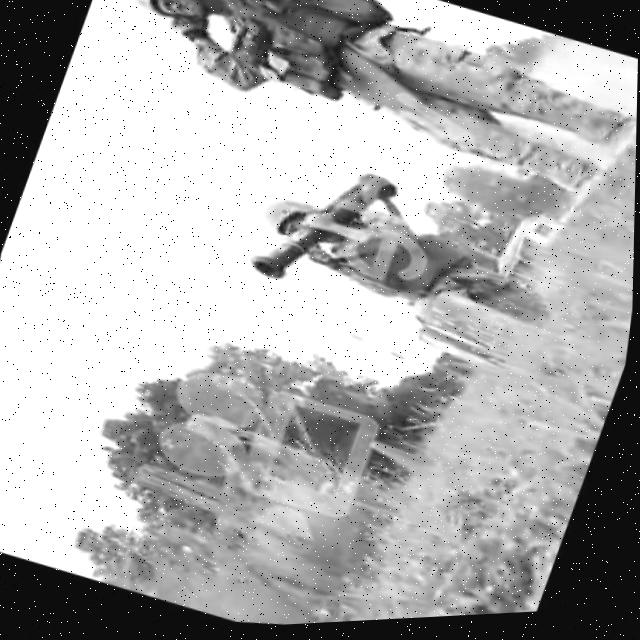rocket: (245, 142, 411, 314)
